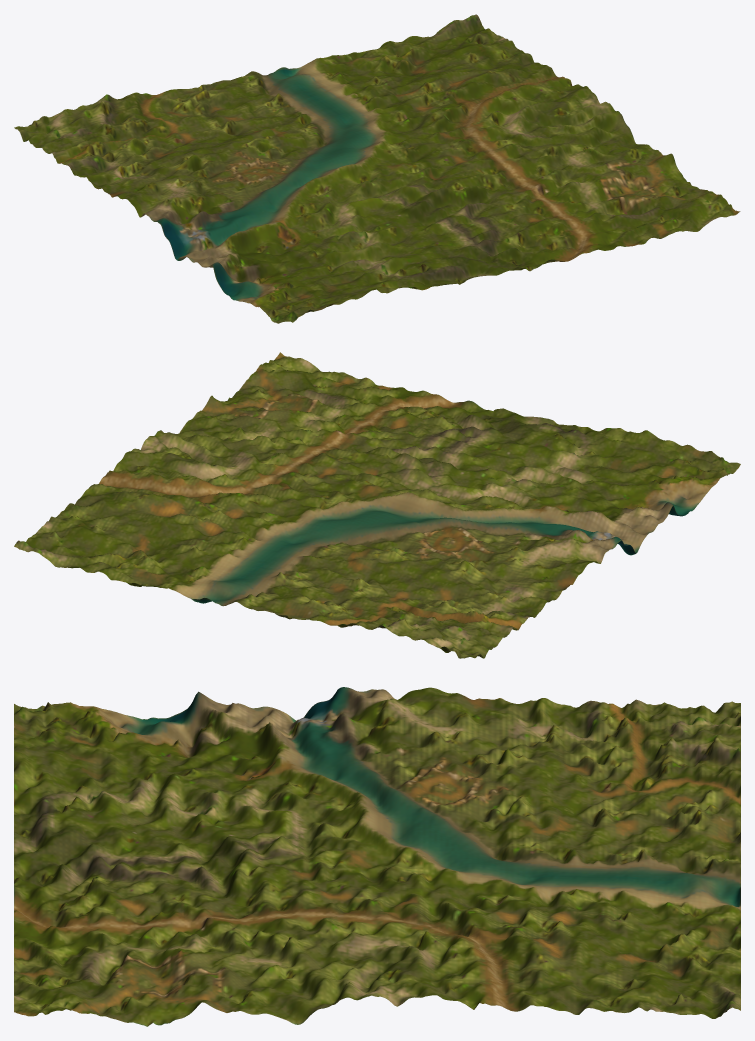
Rendered from 32_55_minimap_reconstructed.glb.
3 views of the same model, one above another, from view 1: azimuth 30°, elevation 25°; view 2: azimuth 150°, elevation 25°; view 3: azimuth 270°, elevation 25° (orthographic). The views are drawn at different scales.
Visible parts, largest first — view 1: TerrainTile; view 2: TerrainTile; view 3: TerrainTile.
Boxes of the visible parts, x1=… form: TerrainTile: x1=14, y1=14, x2=740, y2=323; TerrainTile: x1=14, y1=352, x2=740, y2=658; TerrainTile: x1=14, y1=687, x2=740, y2=1026.
Size of the model in its own units: 533 by 40 by 533.
Materials: 1 (1 with a texture image).
